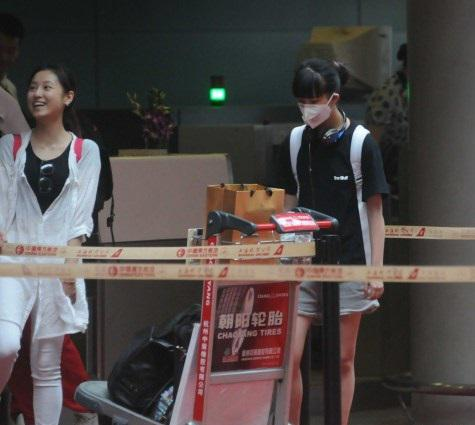NONE: (29, 79, 63, 118), (1, 39, 23, 74)
OK: (297, 94, 333, 129)
